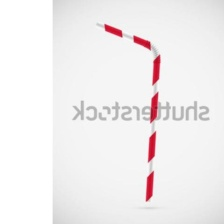drinking_straw: (90, 14, 166, 208)
